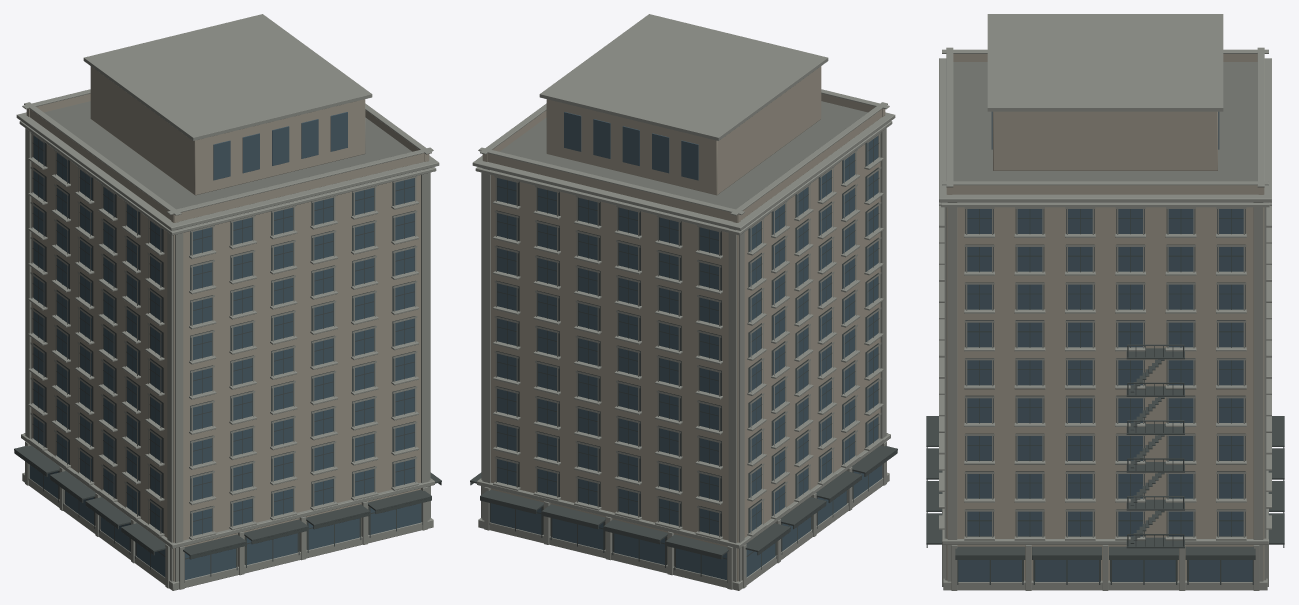
File: limestone_midrise.glb
3 views of the same model, side by side, from view 1: azimuth 30°, elevation 25°; view 2: azimuth 150°, elevation 25°; view 3: azimuth 270°, elevation 25° (orthographic). The views are drawn at different scales.
Visible parts, largest first — view 1: Buff_limestone, Weathered_pale_concrete.001, Smoked_blue_glazing.001, Painted_charcoal_steel.001, Slate_roofing.001; view 2: Buff_limestone, Weathered_pale_concrete.001, Smoked_blue_glazing.001, Painted_charcoal_steel.001, Slate_roofing.001; view 3: Weathered_pale_concrete.001, Buff_limestone, Smoked_blue_glazing.001, Painted_charcoal_steel.001, Slate_roofing.001.
Boxes of the visible parts, <box> form: Buff_limestone: <box>26,66,429,581</box>; Weathered_pale_concrete.001: <box>16,14,439,590</box>; Smoked_blue_glazing.001: <box>29,112,421,579</box>; Painted_charcoal_steel.001: <box>14,135,441,582</box>; Slate_roofing.001: <box>44,101,411,209</box>; Buff_limestone: <box>482,66,885,581</box>; Weathered_pale_concrete.001: <box>472,14,895,590</box>; Smoked_blue_glazing.001: <box>490,112,882,579</box>; Painted_charcoal_steel.001: <box>470,135,897,582</box>; Slate_roofing.001: <box>500,101,867,209</box>; Weathered_pale_concrete.001: <box>939,14,1271,590</box>; Buff_limestone: <box>946,54,1264,580</box>; Smoked_blue_glazing.001: <box>958,111,1252,581</box>; Painted_charcoal_steel.001: <box>926,209,1284,584</box>; Slate_roofing.001: <box>953,62,1257,181</box>.
Size of the model in its own units: 27.23 by 38.4 by 27.05.
